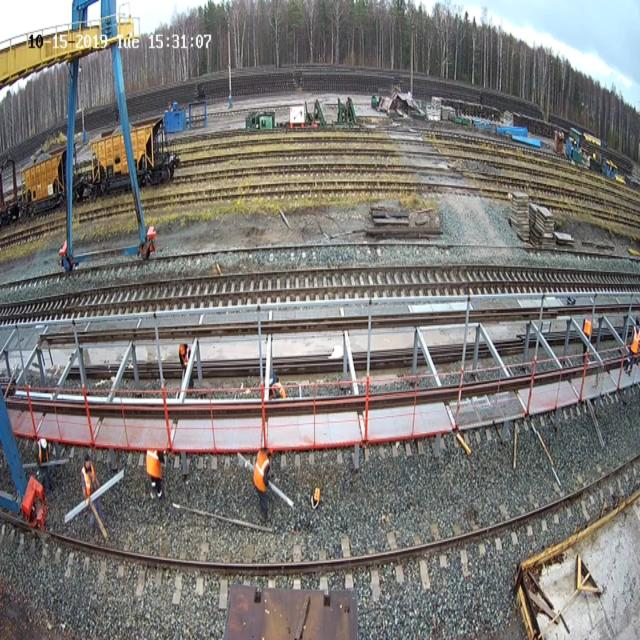Helmet: (146, 225, 156, 238)
Person: (80, 454, 104, 533), (252, 447, 273, 524), (624, 315, 640, 376), (36, 435, 53, 492), (146, 448, 165, 498), (179, 342, 194, 388), (58, 239, 74, 272), (142, 225, 157, 259), (269, 374, 286, 399), (586, 307, 592, 350)
